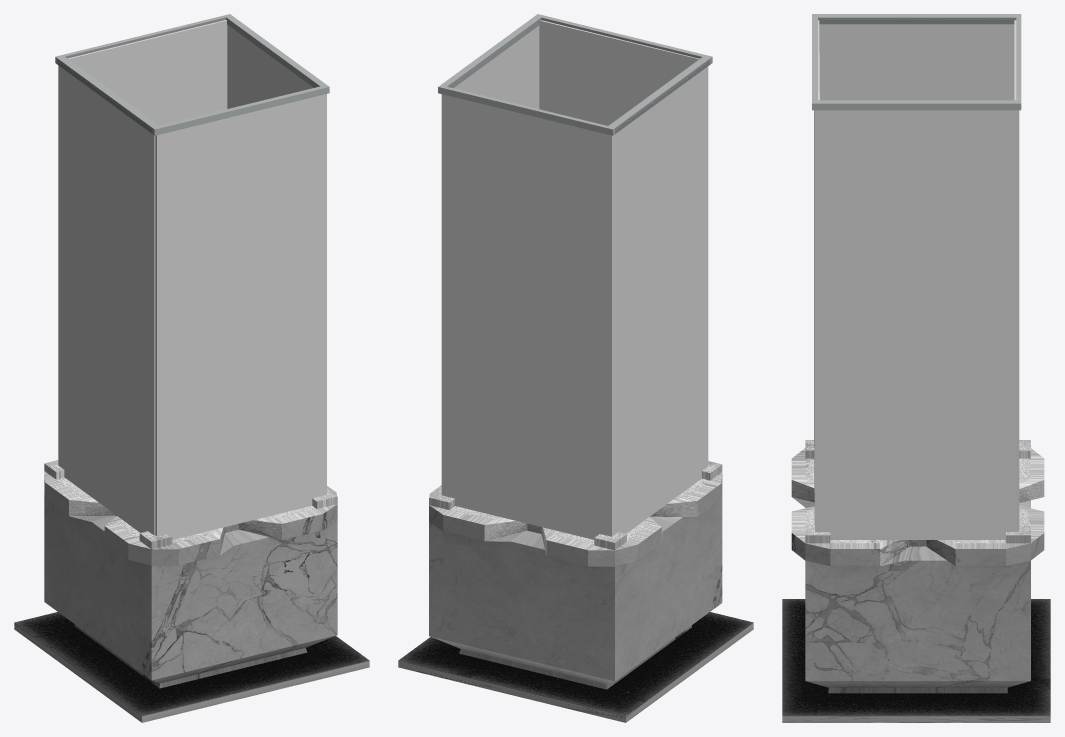
File: hologram box riza.gltf
The picture shows the model from 3 angles, left to right: view 1: azimuth 30°, elevation 25°; view 2: azimuth 150°, elevation 25°; view 3: azimuth 270°, elevation 25°; orthographic projection. The views are drawn at different scales.
Parts seen in each view (by area): view 1: glass, Cube, Cube.003, Cube.004; view 2: glass, Cube, Cube.003, Cube.004; view 3: glass, Cube, Cube.003, Cube.004.
Part boxes in pixels (x1,y1,x2,y2): glass: [58, 20, 326, 539]; Cube: [44, 460, 337, 688]; Cube.003: [14, 612, 369, 722]; Cube.004: [55, 14, 329, 135]; glass: [441, 20, 708, 539]; Cube: [429, 461, 722, 689]; Cube.003: [398, 612, 753, 722]; Cube.004: [438, 14, 712, 135]; glass: [814, 20, 1019, 539]; Cube: [791, 440, 1044, 693]; Cube.003: [782, 599, 1050, 722]; Cube.004: [812, 14, 1021, 110].
Size of the model in its own units: 2.45 by 5.93 by 2.38.
Materials: 3 (2 with a texture image).
